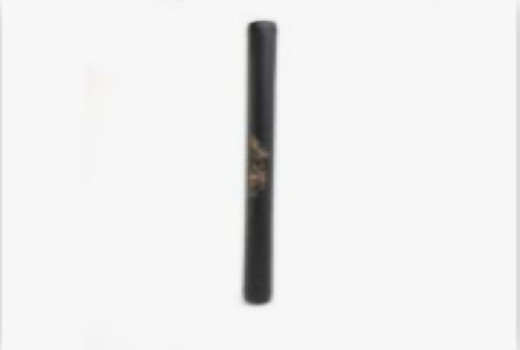baston_e: (239, 34, 282, 300)
baston_v: (240, 10, 286, 47), (236, 282, 286, 313)
